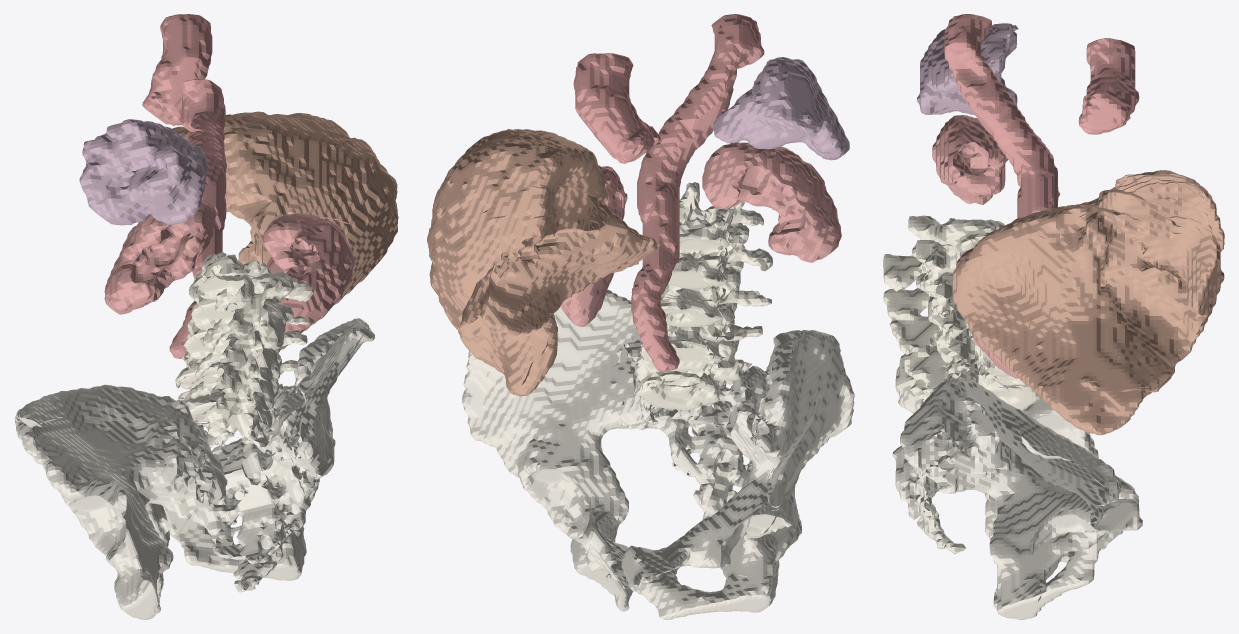
Rendered from anatomy.glb.
3 views of the same model, side by side, from view 1: azimuth 30°, elevation 25°; view 2: azimuth 150°, elevation 25°; view 3: azimuth 270°, elevation 25° (orthographic). The views are drawn at different scales.
Visible parts, largest first — view 1: pelvis, liver, lumbar_spine, spleen, aorta, kidney_left, kidney_right; view 2: pelvis, liver, aorta, lumbar_spine, kidney_left, spleen, kidney_right; view 3: liver, pelvis, lumbar_spine, aorta, kidney_left, spleen.
Boxes of the visible parts, bbox=[...] form: pelvis: bbox=[14, 318, 374, 619]; liver: bbox=[172, 111, 398, 349]; lumbar_spine: bbox=[175, 252, 313, 447]; spleen: bbox=[79, 119, 208, 225]; aorta: bbox=[142, 14, 226, 358]; kidney_left: bbox=[104, 199, 216, 314]; kidney_right: bbox=[263, 213, 354, 332]; pelvis: bbox=[462, 289, 854, 619]; liver: bbox=[427, 129, 660, 396]; aorta: bbox=[573, 14, 764, 372]; lumbar_spine: bbox=[634, 182, 772, 411]; kidney_left: bbox=[702, 142, 841, 262]; spleen: bbox=[713, 57, 849, 160]; kidney_right: bbox=[560, 166, 627, 326]; liver: bbox=[952, 170, 1224, 435]; pelvis: bbox=[892, 340, 1142, 619]; lumbar_spine: bbox=[883, 215, 1040, 411]; aorta: bbox=[944, 14, 1139, 218]; kidney_left: bbox=[932, 115, 1008, 204]; spleen: bbox=[917, 23, 1018, 114].
Size of the model in its own units: 317 by 439 by 252.
